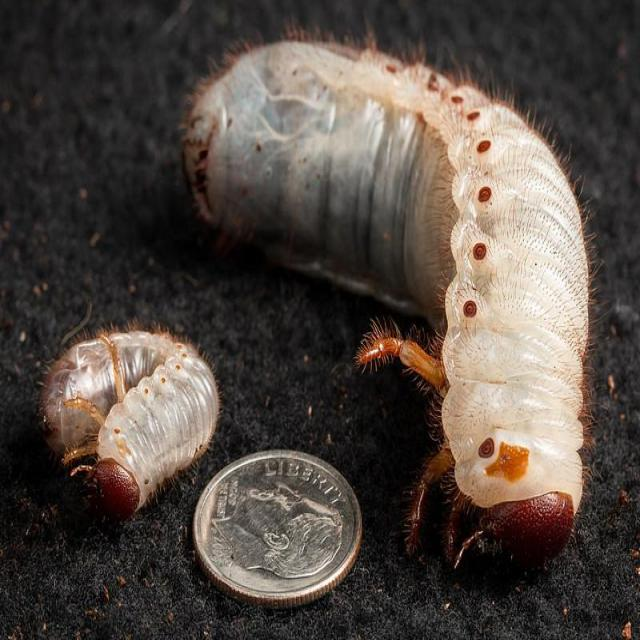Grub-Adult-: (185, 35, 606, 554), (49, 317, 230, 515)
